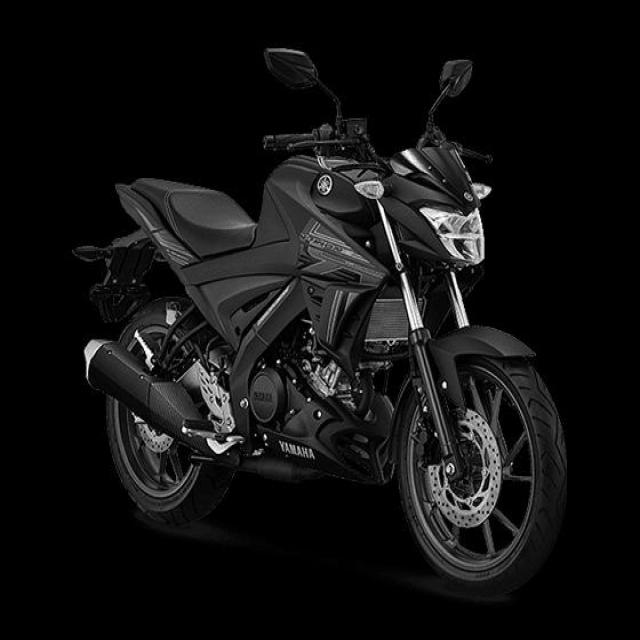Motorcycle: (75, 47, 567, 599)
